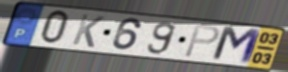0: (38, 9, 72, 48)
6: (111, 17, 143, 53)
9: (145, 21, 176, 56)
K: (69, 13, 106, 50)
M: (209, 24, 264, 66)
P: (182, 24, 223, 59)
